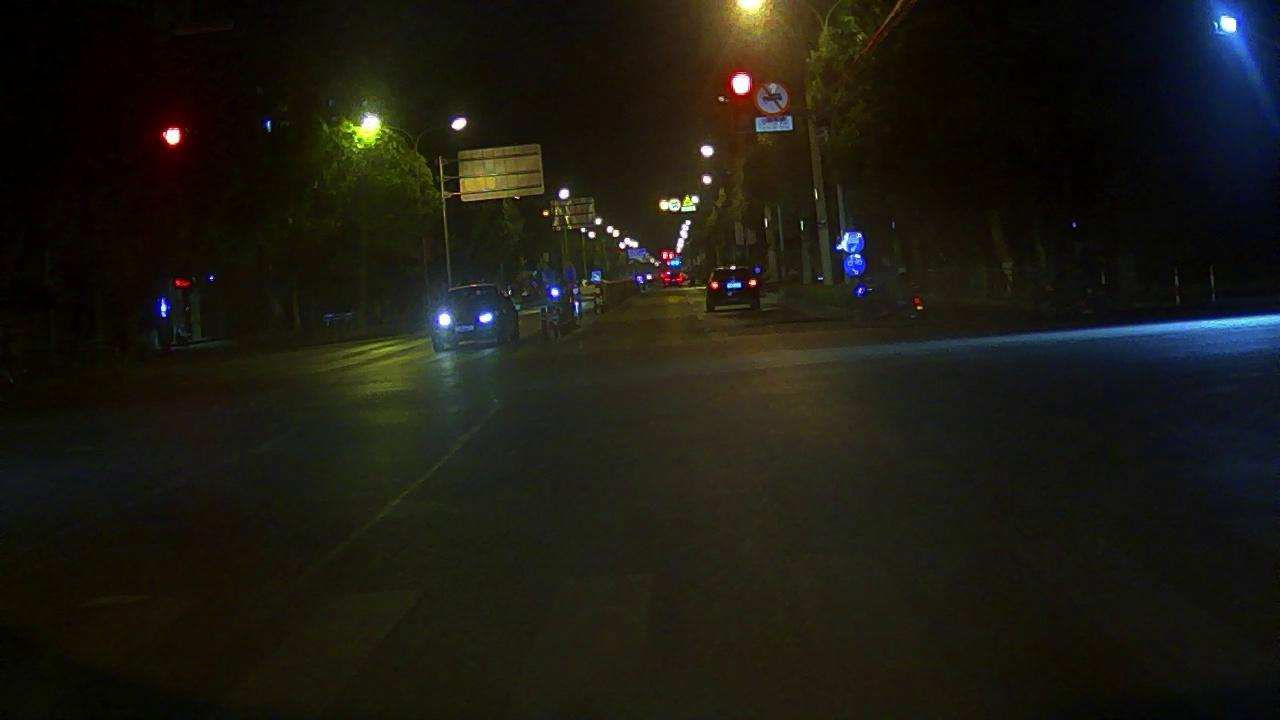traffic_light: (159, 120, 186, 153), (729, 67, 755, 100)
